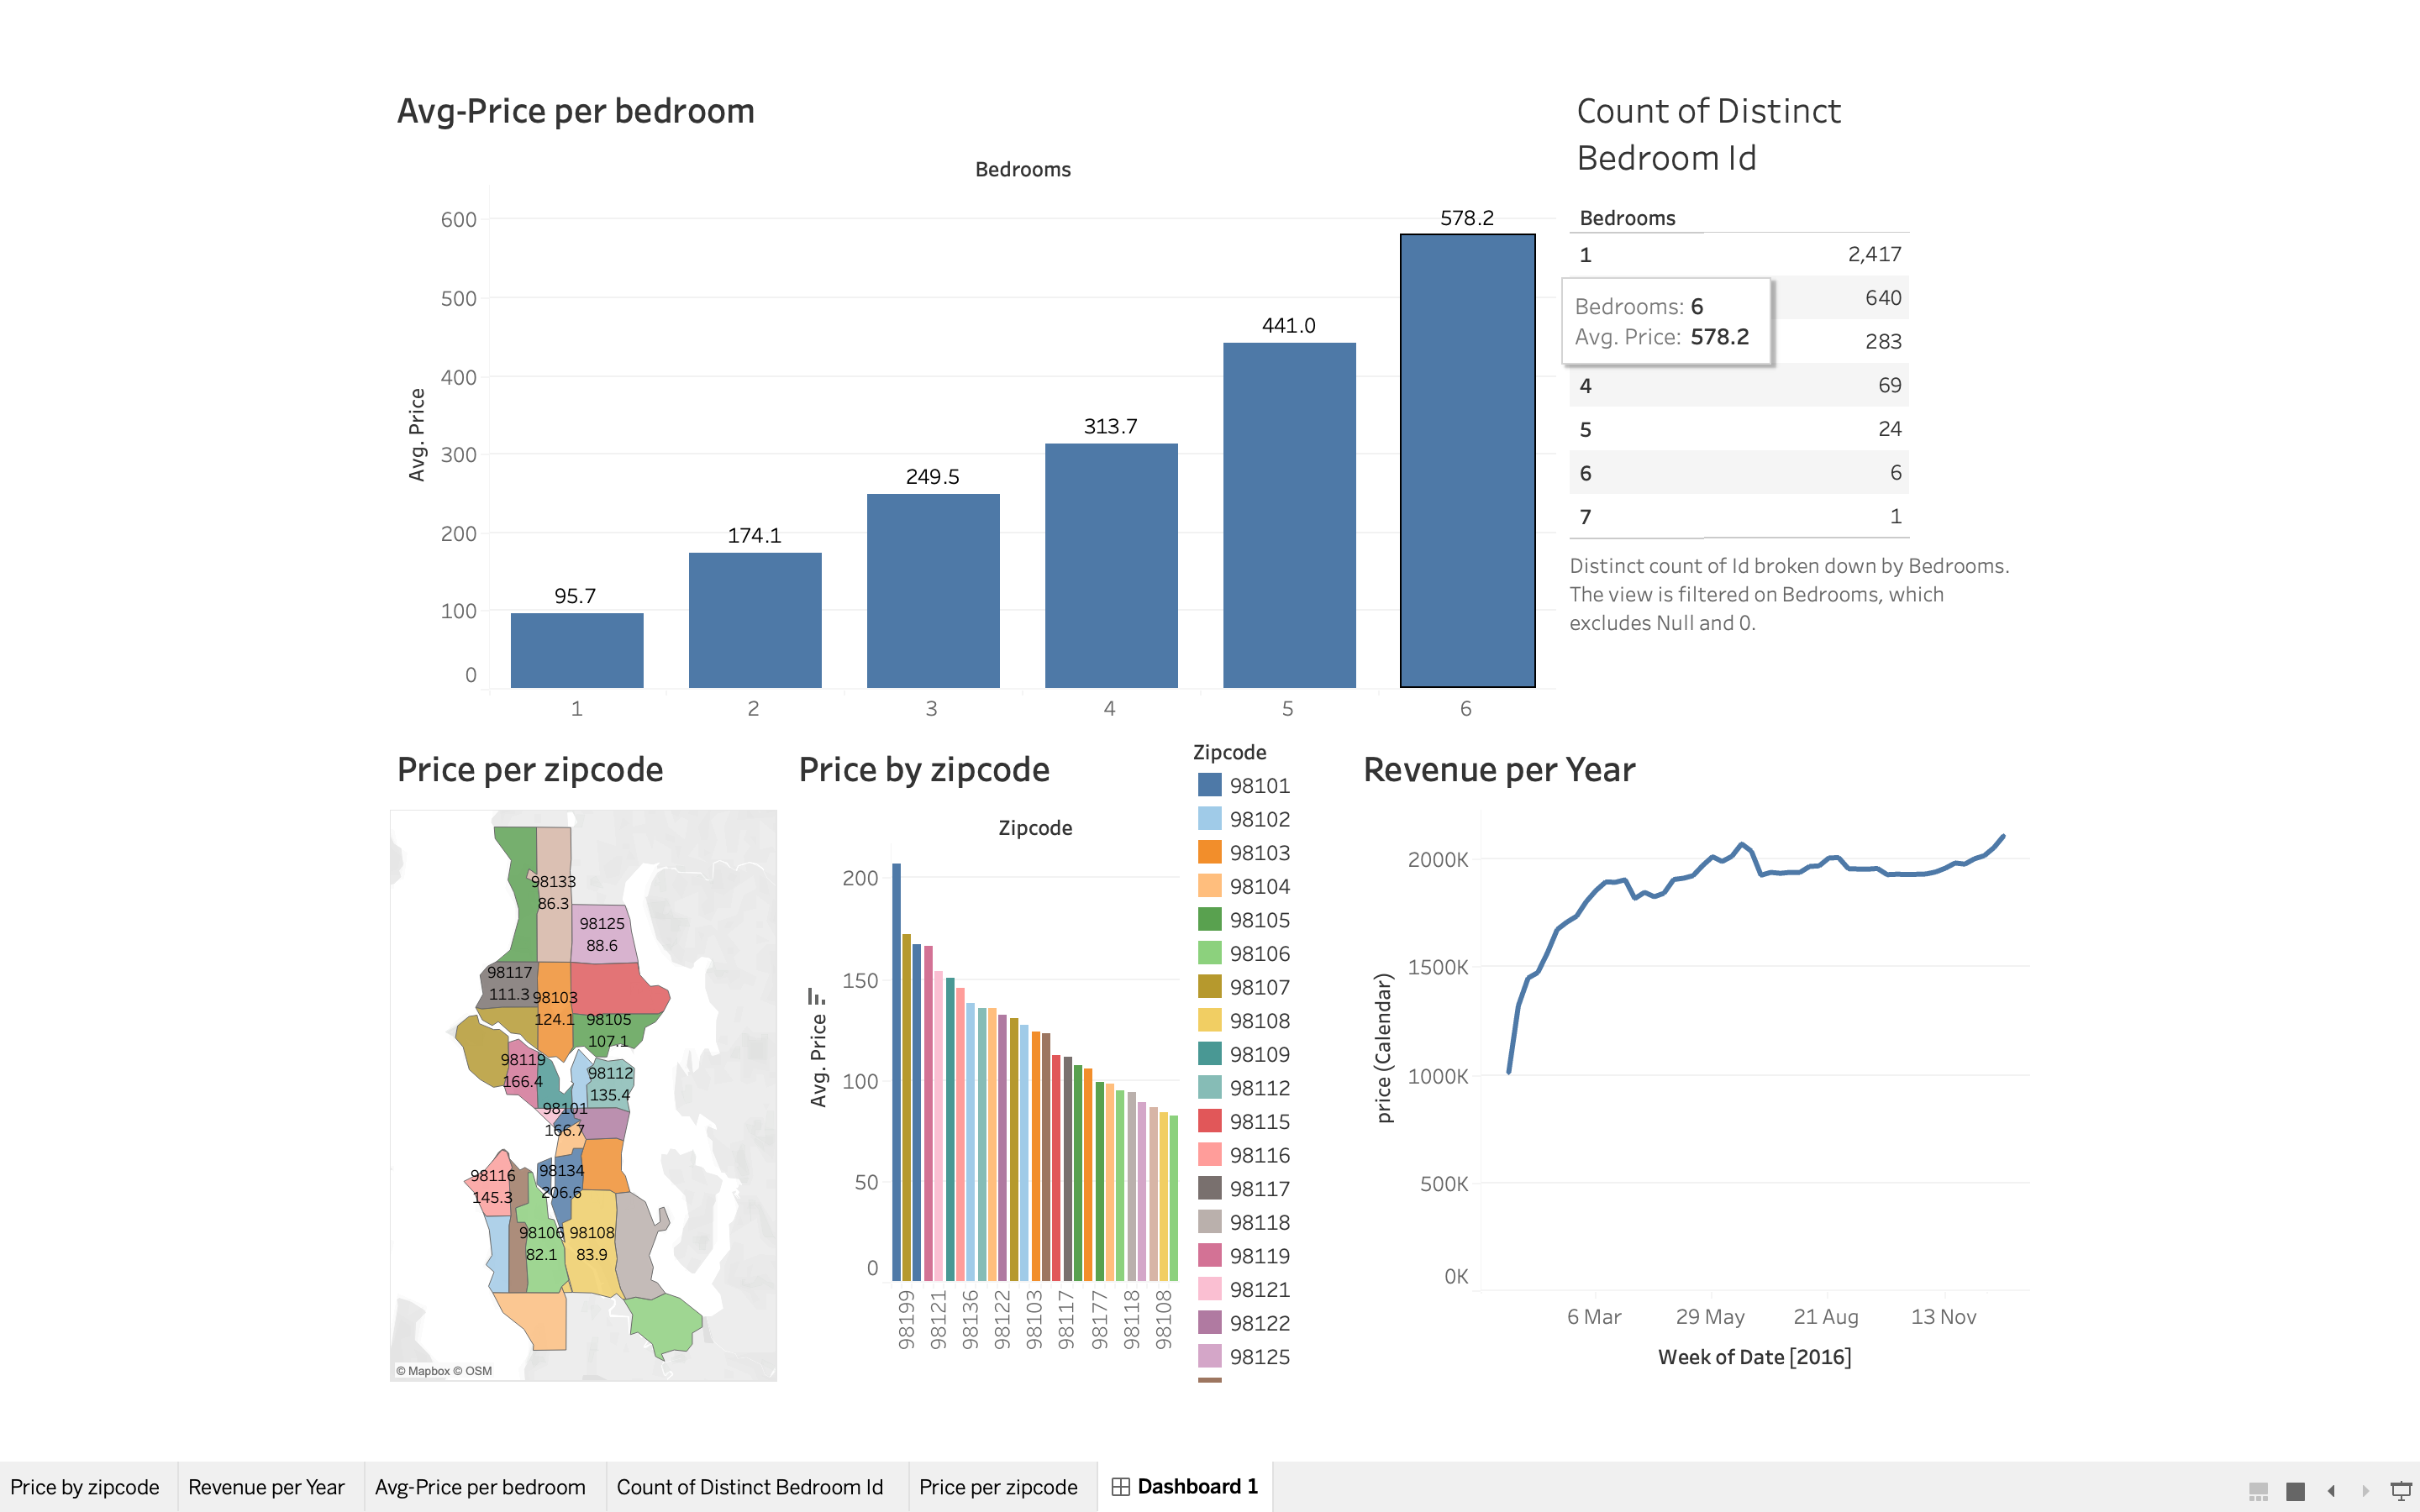

Layout of this report page (visuals, bound fields, positions):
{"tool":"tableau","page":{"name":"Dashboard 1","canvas":[1000,800],"ordinal":0},"visuals":[{"type":"worksheet","title":"Avg-Price per bedroom","mark":"Automatic","rows":["price"],"cols":["bedrooms"],"box":[8,8,702,392]},{"type":"worksheet","title":"Count of Distinct Bedroom Id","mark":"Automatic","rows":["bedrooms"],"box":[710,8,282,392]},{"type":"worksheet","title":"Price per zipcode","mark":"Multipolygon","box":[8,400,239,392]},{"type":"worksheet","title":"Price by zipcode","mark":"Automatic","rows":["price"],"cols":["zipcode"],"box":[247,400,239,392]},{"type":"legend","title":"Price by zipcode","param":"[federated.1n7u96m01kuz9015povoy1n669k2].[none:zipcode:ok]","box":[486,400,97,392]},{"type":"worksheet","title":"Revenue per Year","mark":"Automatic","rows":["price (Calendar)"],"cols":["date"],"box":[583,400,409,392]}]}

Visuals, with their boxes on the page's 1000x800 design canvas (x1, y1, x2, y2). These are canvas units, not pixel positions in the 2420x1512 screenshot, which may show the page scaled, cropped or inside an application window:
"Avg-Price per bedroom" worksheet: <box>8,8,710,400</box>
"Count of Distinct Bedroom Id" worksheet: <box>710,8,992,400</box>
"Price per zipcode" worksheet (Multipolygon marks): <box>8,400,247,792</box>
"Price by zipcode" worksheet: <box>247,400,486,792</box>
"Price by zipcode" legend: <box>486,400,583,792</box>
"Revenue per Year" worksheet: <box>583,400,992,792</box>
